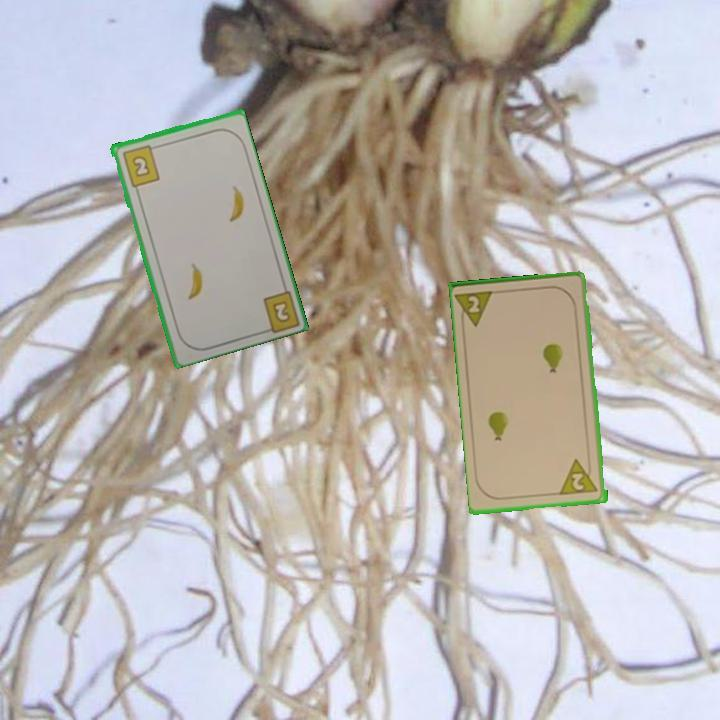2b: (118, 141, 162, 189), (269, 297, 293, 325)
2p: (558, 455, 602, 498), (465, 292, 483, 316)
